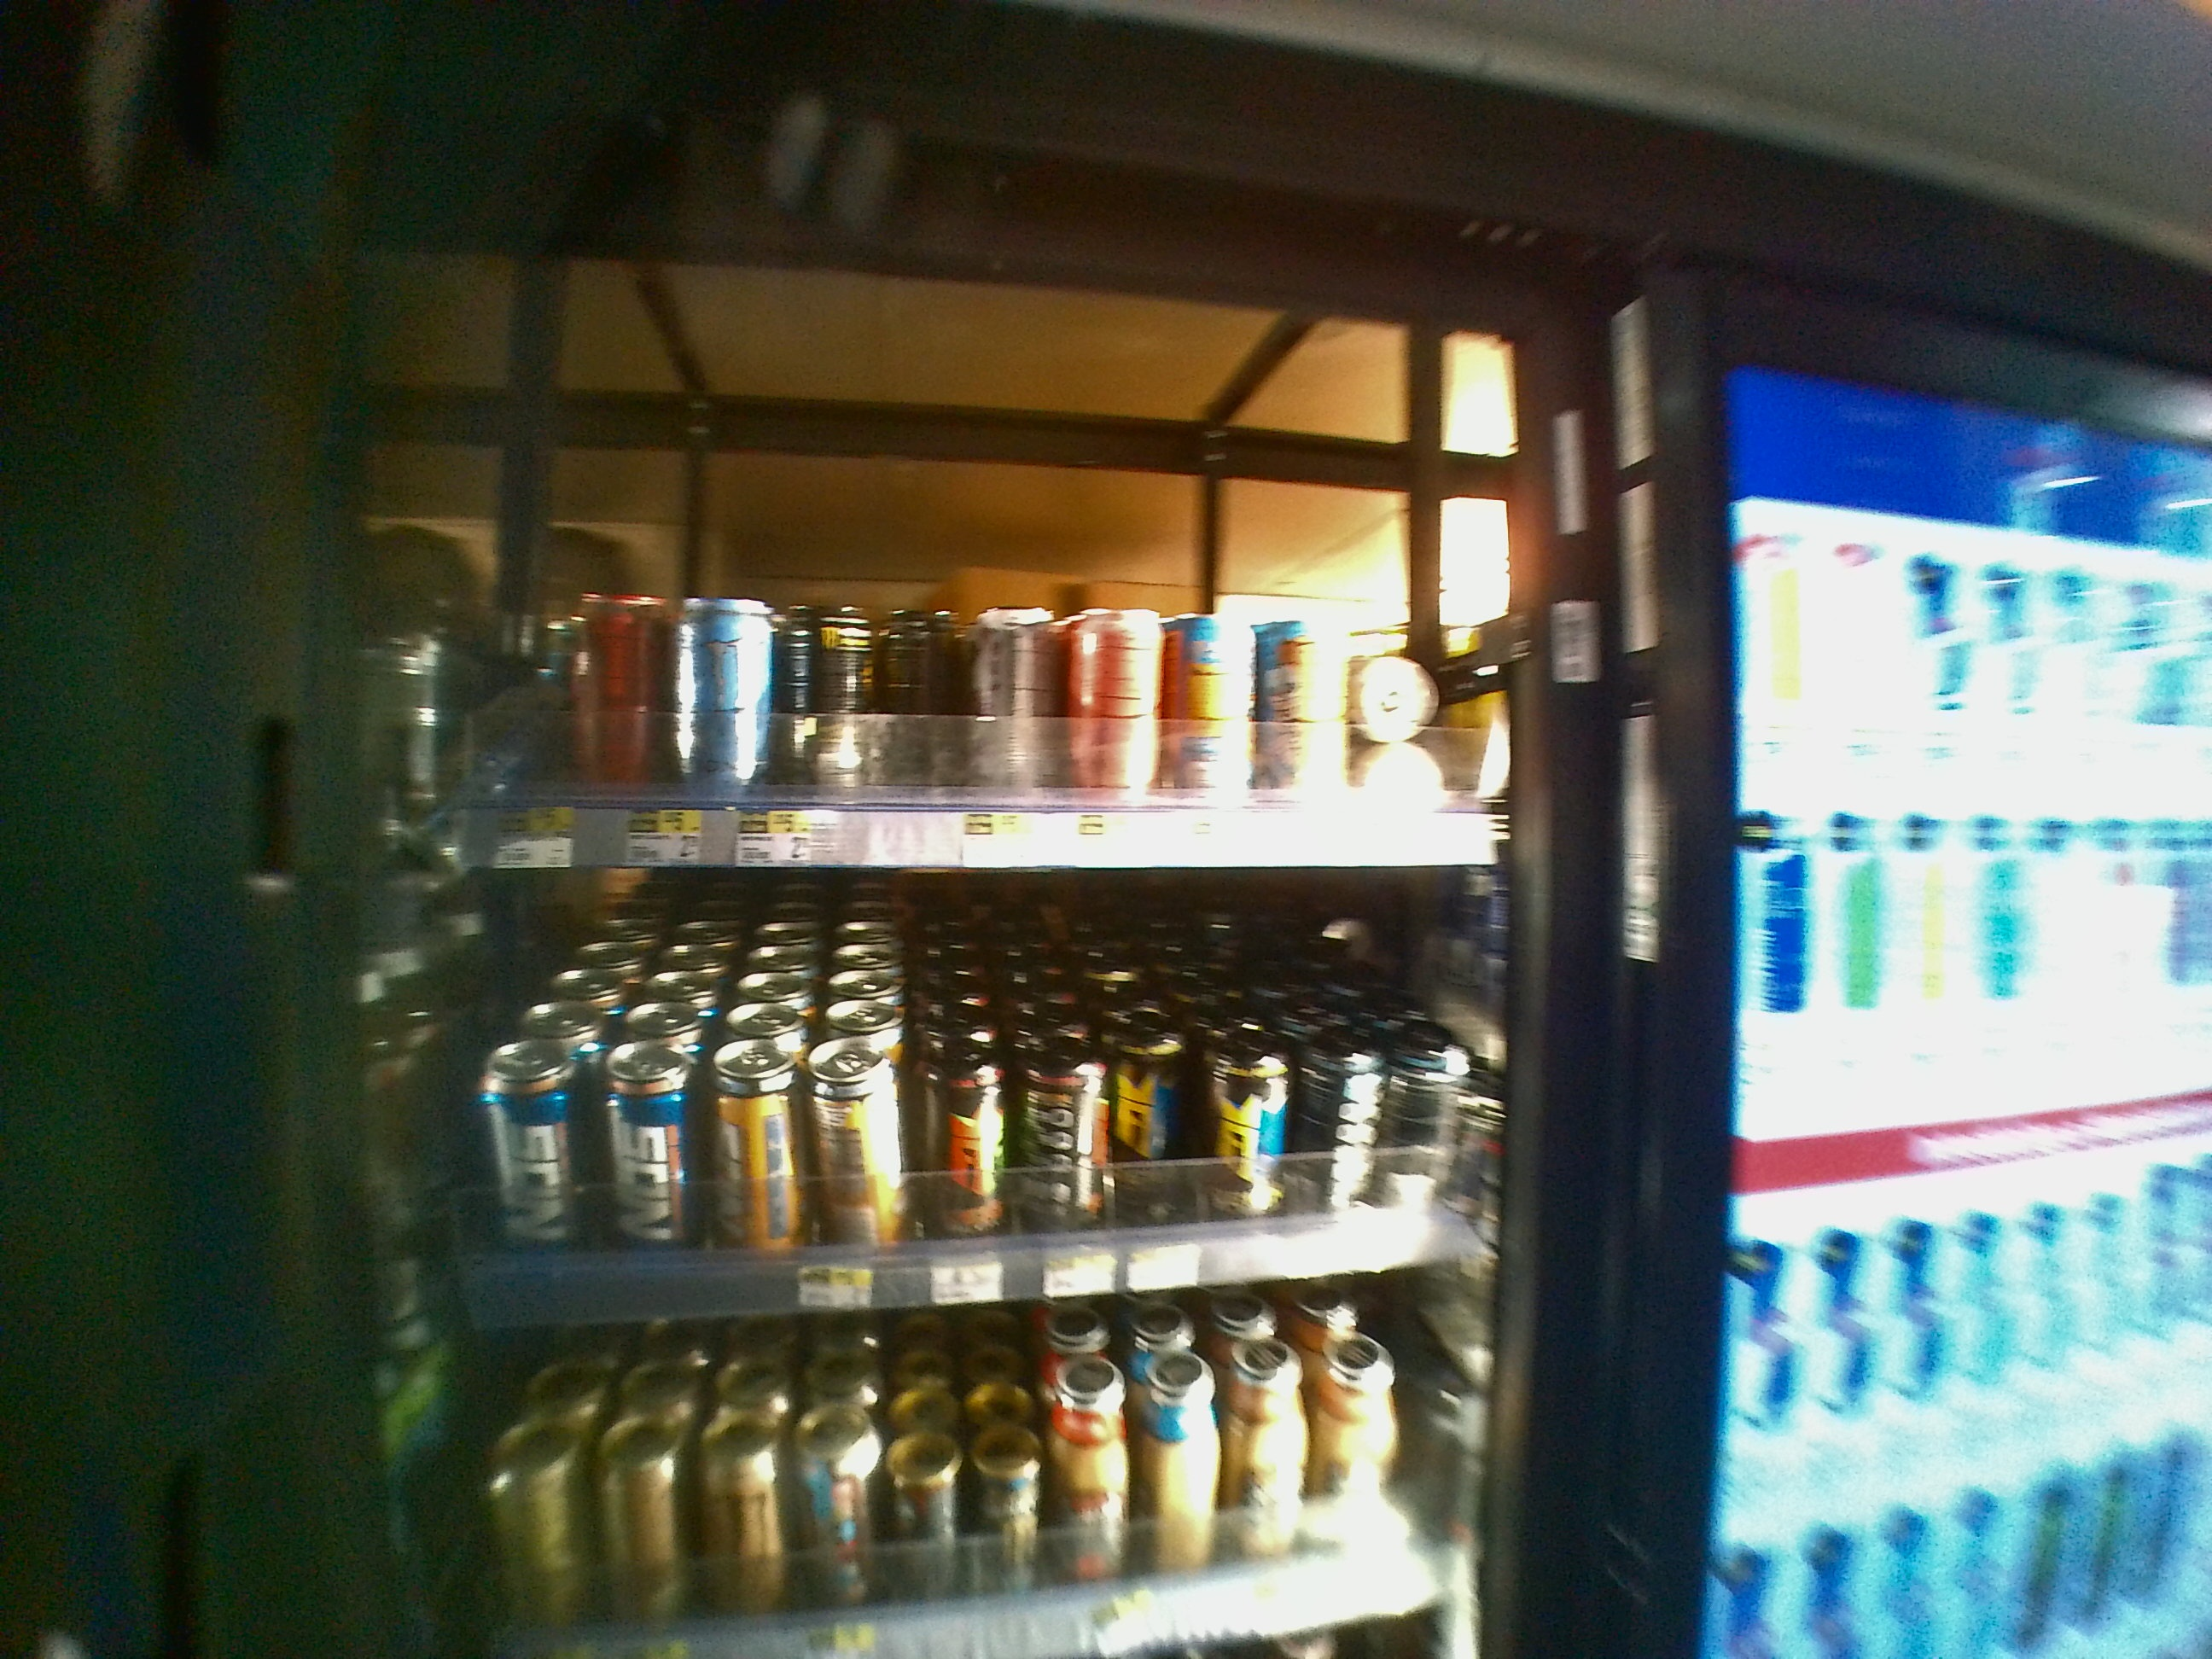shelf: (395, 268, 1548, 863), (368, 863, 1540, 1307)
